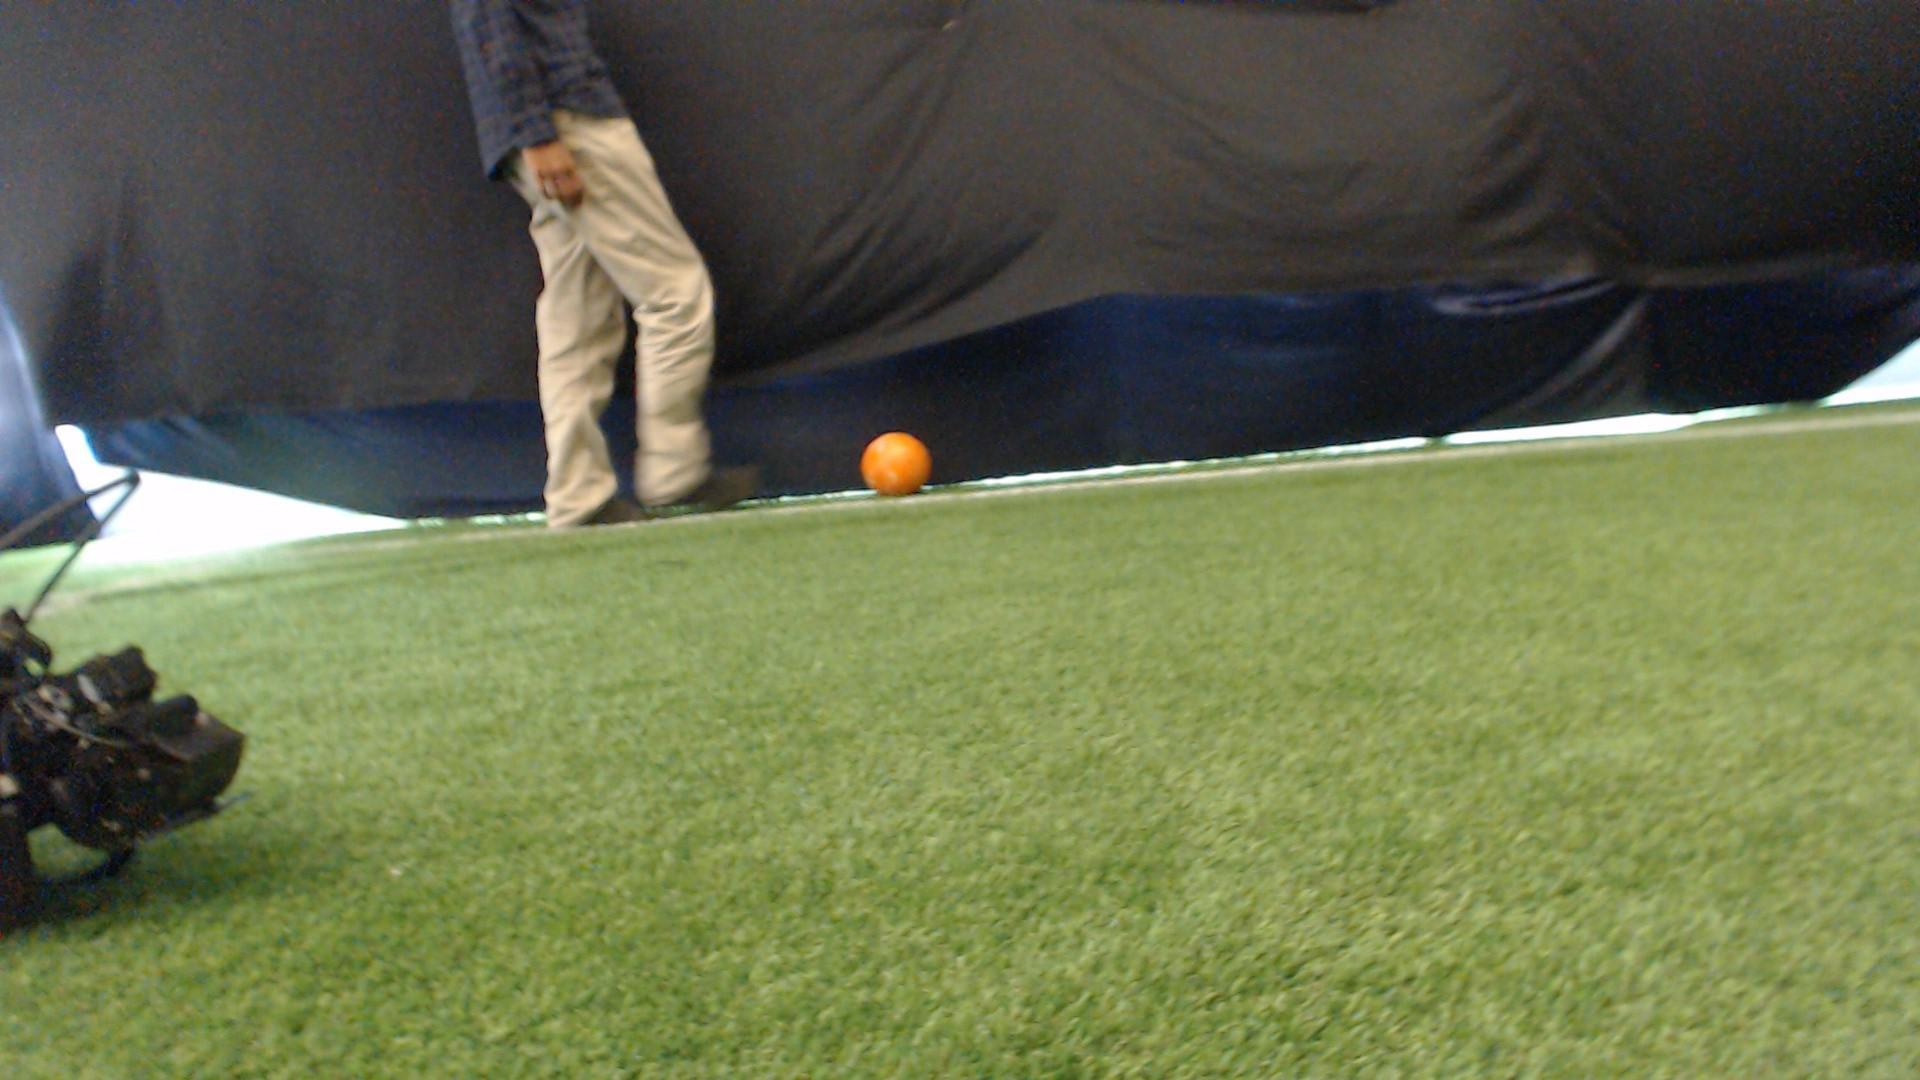bola: (844, 415, 949, 509)
